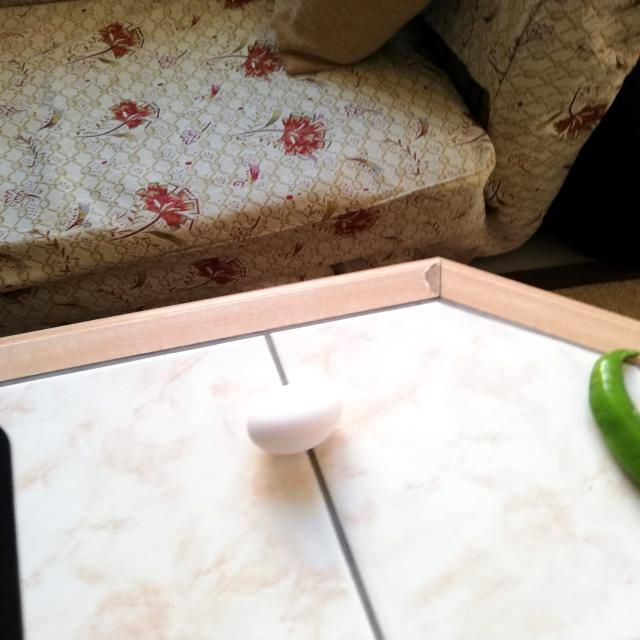egg: (242, 378, 350, 459)
